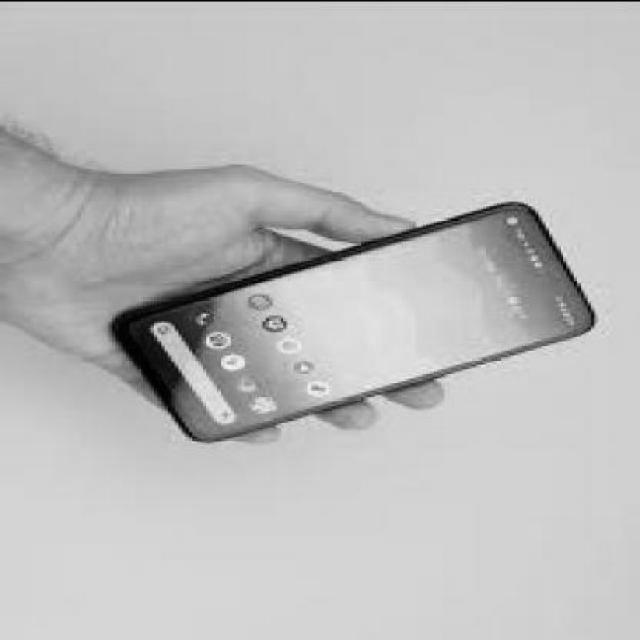fake: (102, 200, 602, 443)
